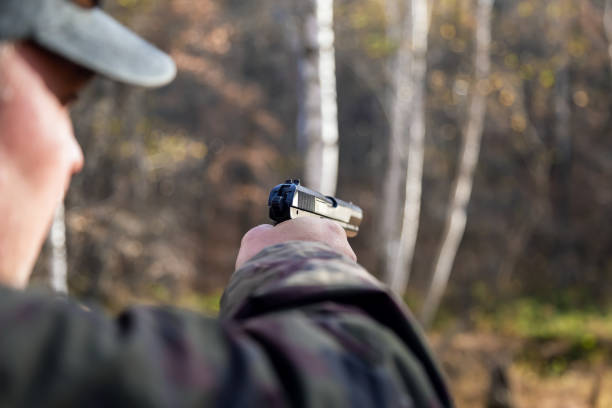gun: (266, 178, 364, 239)
